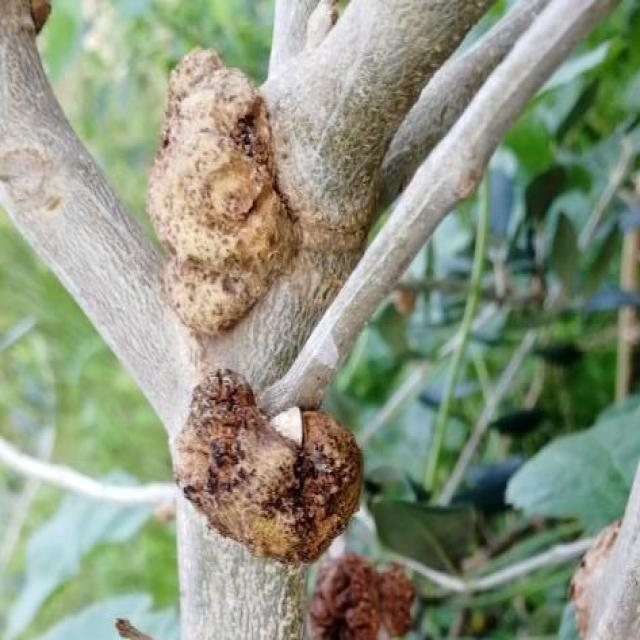Tuberculosis: (147, 48, 296, 335), (175, 369, 361, 562), (308, 553, 415, 638)
